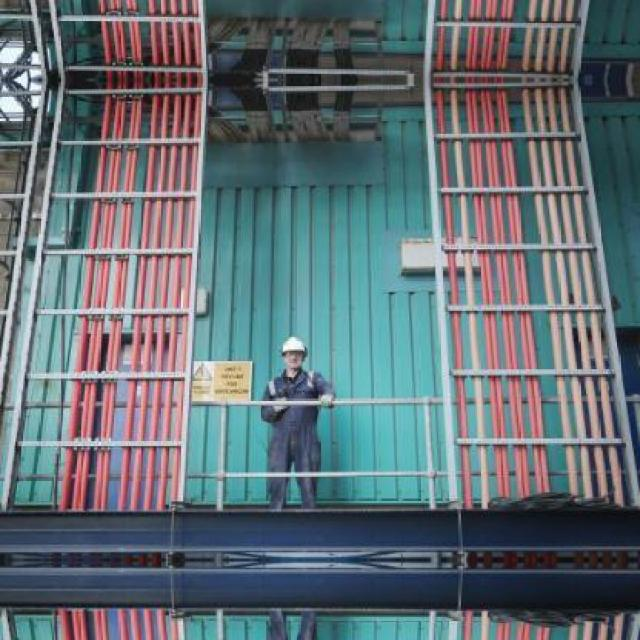hat: (269, 334, 310, 361)
